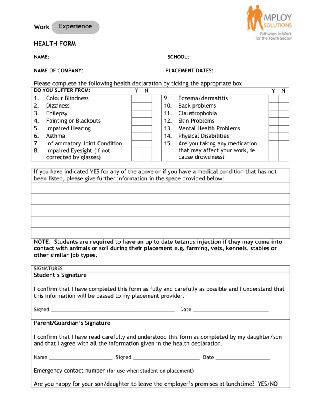textbox: (28, 178, 292, 197), (28, 224, 293, 240), (28, 190, 292, 206), (29, 213, 292, 229), (29, 202, 292, 217), (267, 137, 280, 163), (278, 138, 292, 162), (139, 144, 154, 161), (129, 145, 144, 162), (275, 115, 291, 129), (268, 107, 283, 121), (130, 100, 143, 114), (277, 106, 290, 120), (131, 108, 144, 121), (268, 131, 282, 143), (140, 93, 156, 103), (276, 102, 292, 112), (268, 100, 281, 112), (277, 131, 290, 143), (140, 124, 154, 135), (130, 123, 144, 134), (266, 93, 280, 104), (267, 123, 281, 134), (140, 109, 155, 119), (268, 116, 280, 128), (130, 116, 143, 127), (278, 124, 291, 135), (141, 101, 155, 111), (279, 93, 291, 104), (141, 116, 154, 126), (130, 131, 143, 141), (141, 139, 154, 149), (131, 94, 143, 104), (131, 139, 143, 149), (141, 132, 154, 141)
textline: (50, 304, 178, 313), (193, 367, 288, 377), (46, 354, 117, 362), (191, 306, 272, 313), (131, 355, 202, 361), (214, 355, 273, 362)
